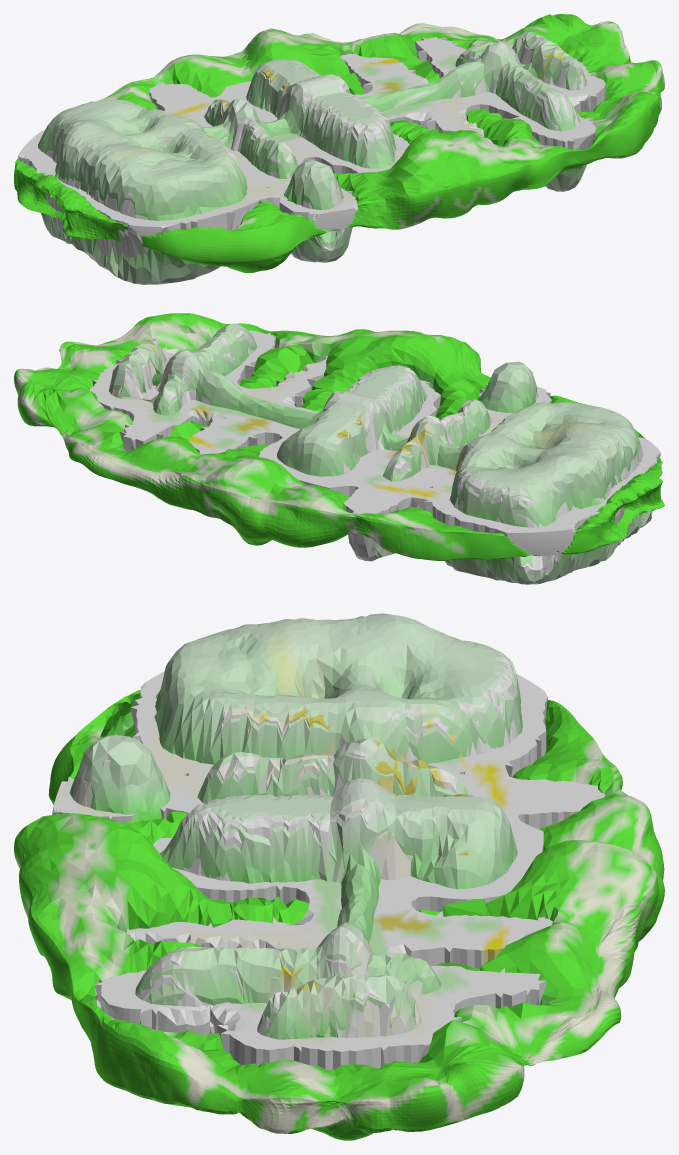
3 renders of one model, top to bottom at view 1: azimuth 30°, elevation 25°; view 2: azimuth 150°, elevation 25°; view 3: azimuth 270°, elevation 25°, orthographic. The views are drawn at different scales.
Parts seen in each view (by area): view 1: Sphere; view 2: Sphere; view 3: Sphere.
Part boxes in pixels (<box>): Sphere: <box>14,14,664,284</box>; Sphere: <box>14,313,664,584</box>; Sphere: <box>14,613,664,1140</box>.
Bounding box in the file's own units: 155 × 27.69 × 92.73.
